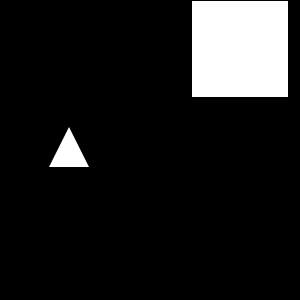circle: (192, 1, 288, 97)
triangle: (49, 127, 89, 167)
